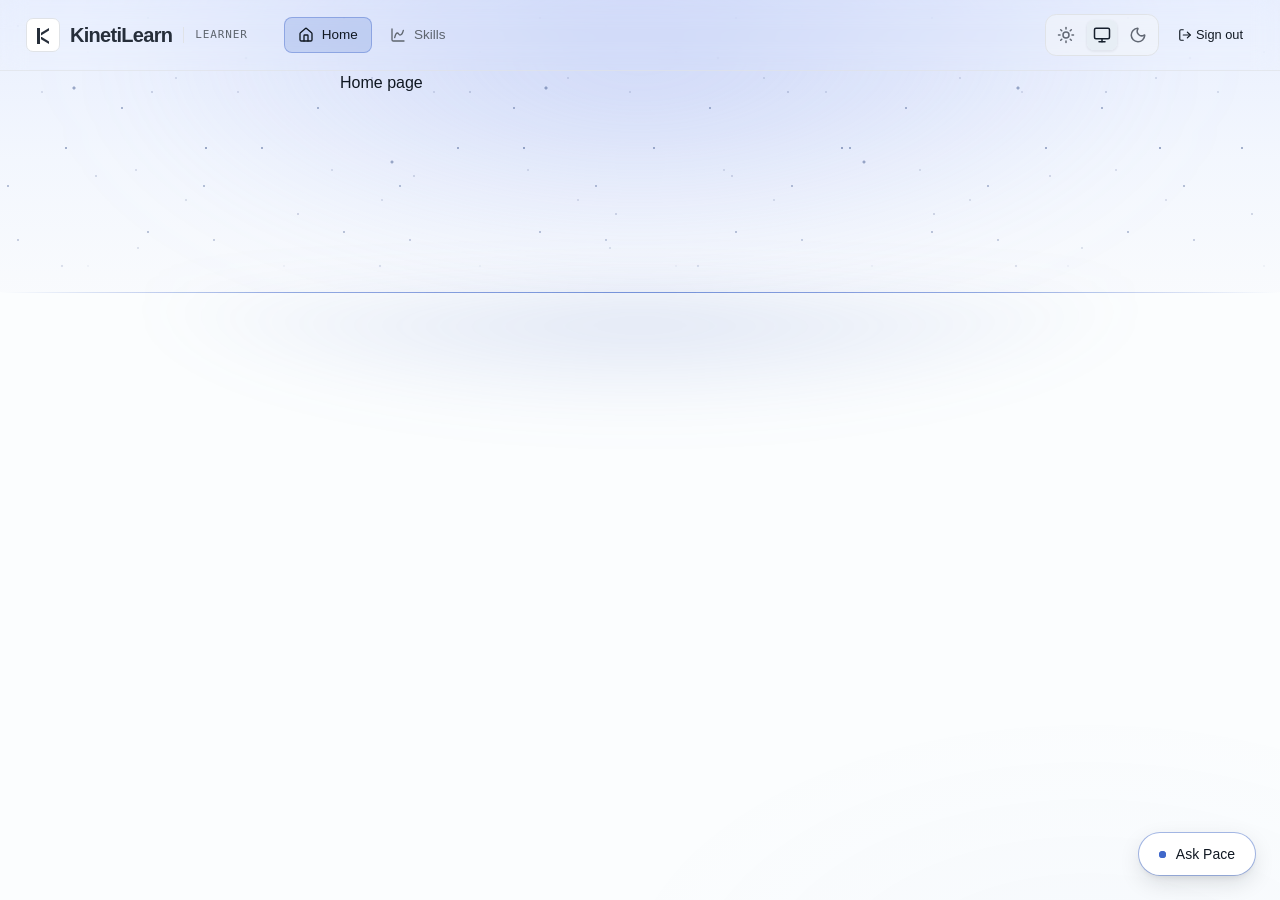
ChatPanel › blocks the composer while an answer is in flight
Step 1. Click the button "Ask Pace" → (1197, 854), box left=1138, top=832, right=1256, bottom=876
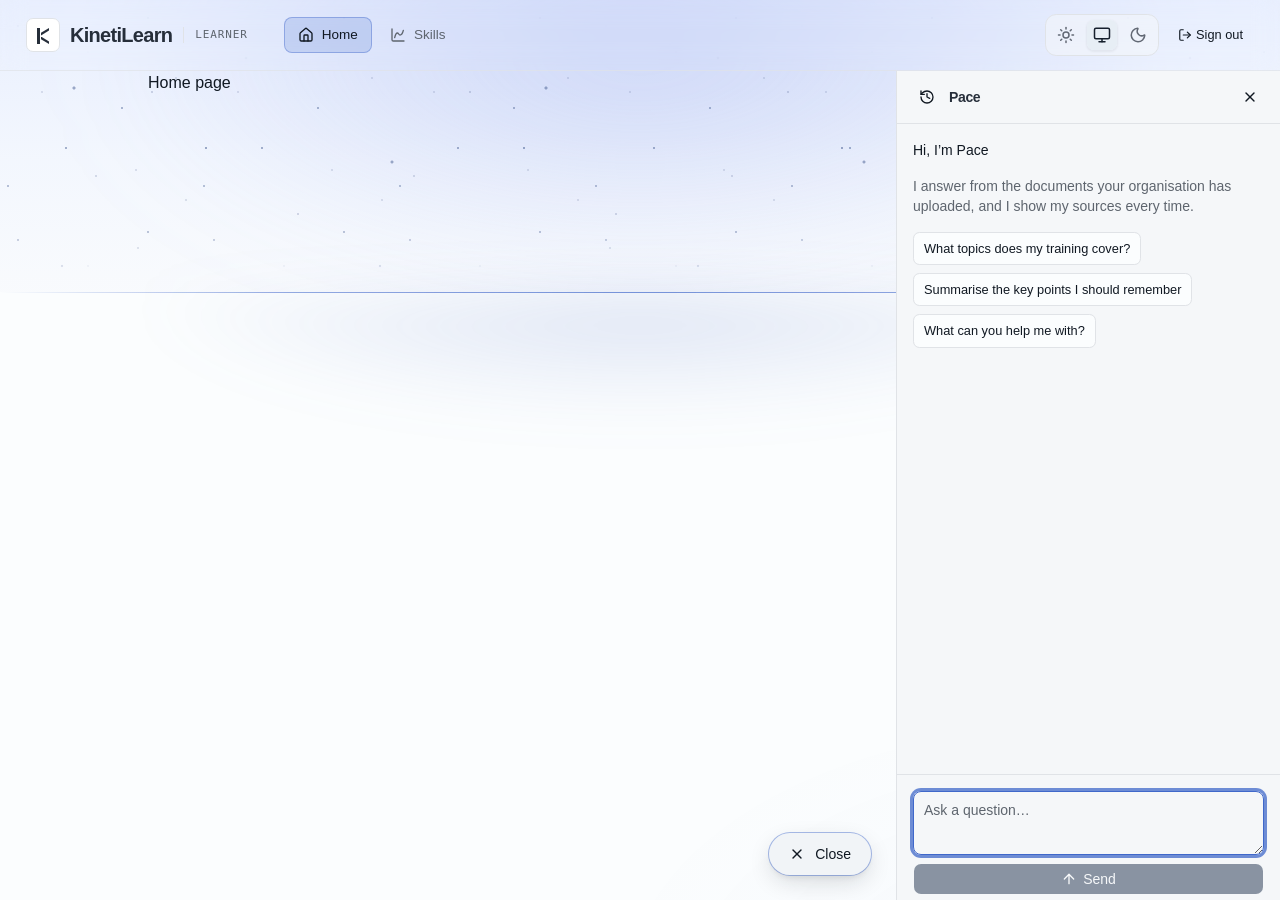
Step 2. Type "hello" into the text box named "Your question" → (1088, 823), box left=913, top=791, right=1264, bottom=855
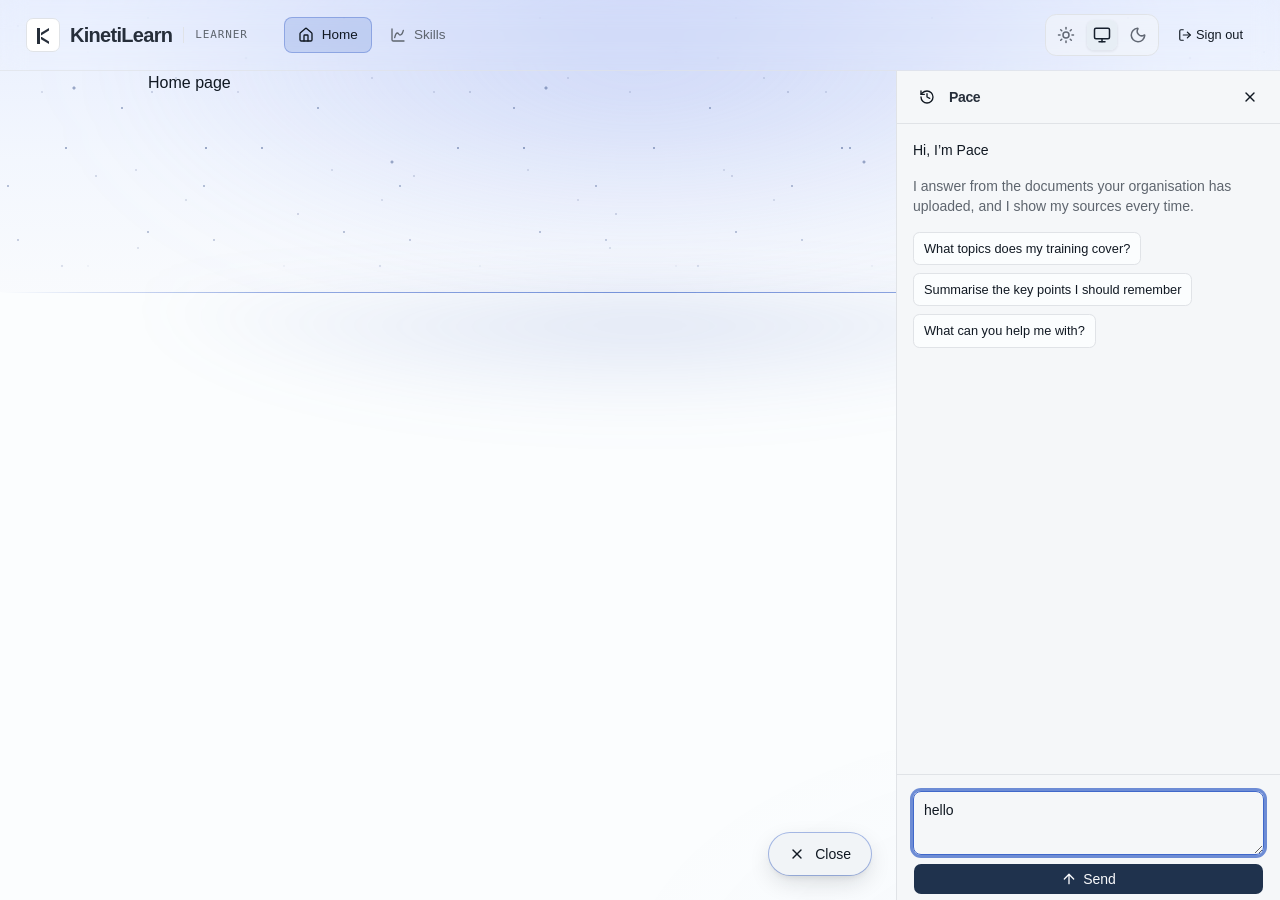
Step 3. Click the button "Send" → (1088, 879), box left=913, top=863, right=1264, bottom=895
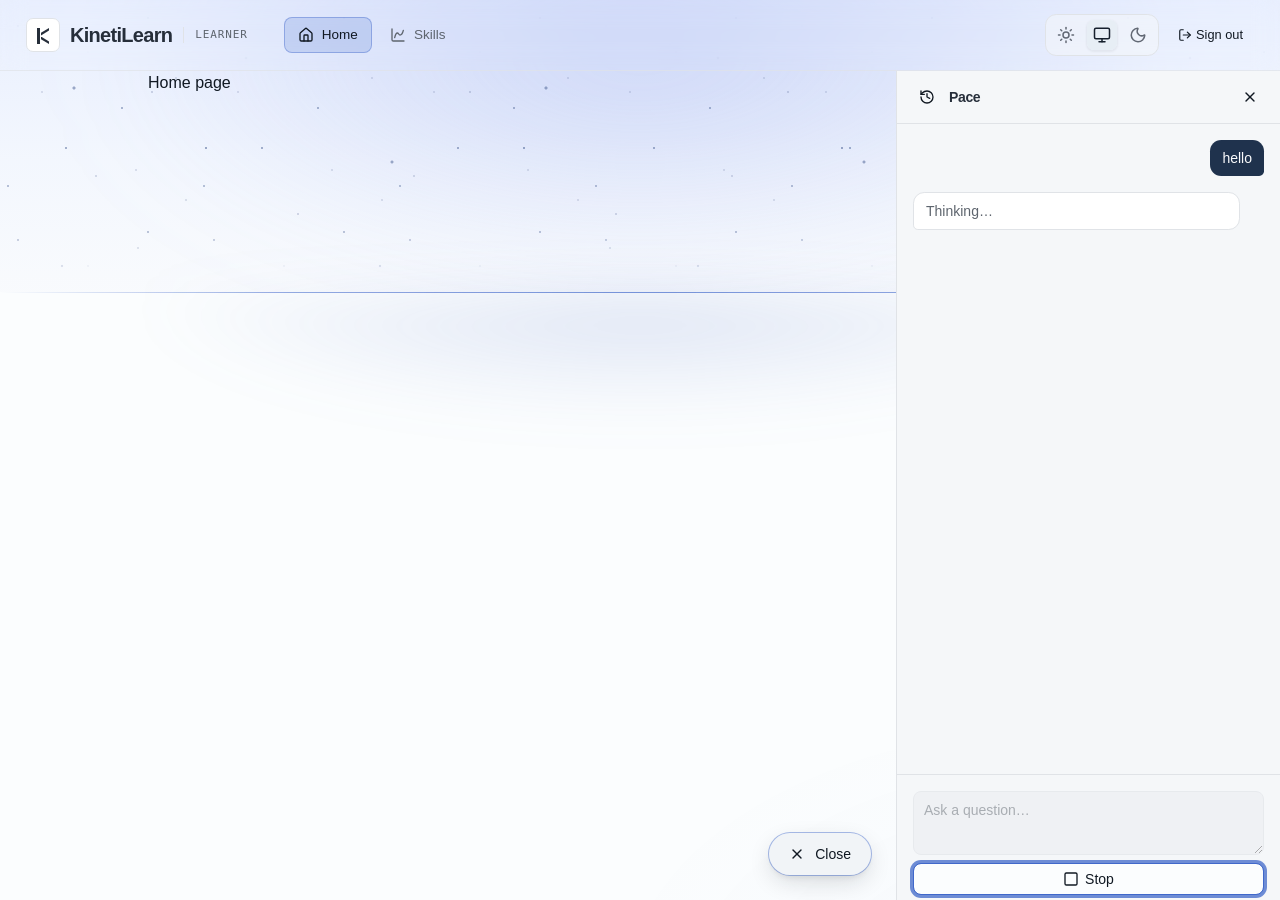
Now the button "Stop" is enabled, box left=913, top=863, right=1264, bottom=895
Now the text box named "Your question" is disabled, box left=913, top=791, right=1264, bottom=855
Now the button "Send" is gone
